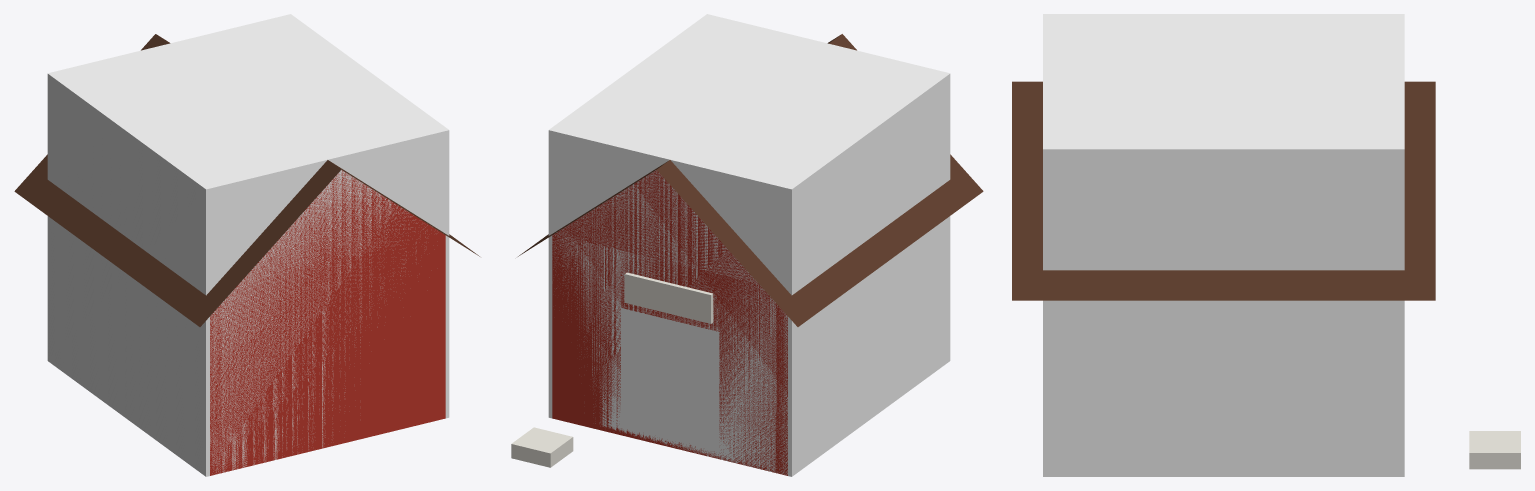
Rendered from casinha_cachorro.glb.
3 views of the same model, side by side, from view 1: azimuth 30°, elevation 25°; view 2: azimuth 150°, elevation 25°; view 3: azimuth 270°, elevation 25° (orthographic). The views are drawn at different scales.
Parts seen in each view (by area): view 1: COL_casinha_BOX, casinha; view 2: COL_casinha_BOX, casinha; view 3: COL_casinha_BOX, casinha.
Boxes of the visible parts, x1,y1,x2,y2 form: COL_casinha_BOX: (47,14,449,476); casinha: (14,34,479,475); COL_casinha_BOX: (548,14,950,476); casinha: (511,34,983,475); COL_casinha_BOX: (1043,14,1404,476); casinha: (1012,81,1520,469).
Size of the model in its own units: 1.44 by 1.4 by 1.97.
